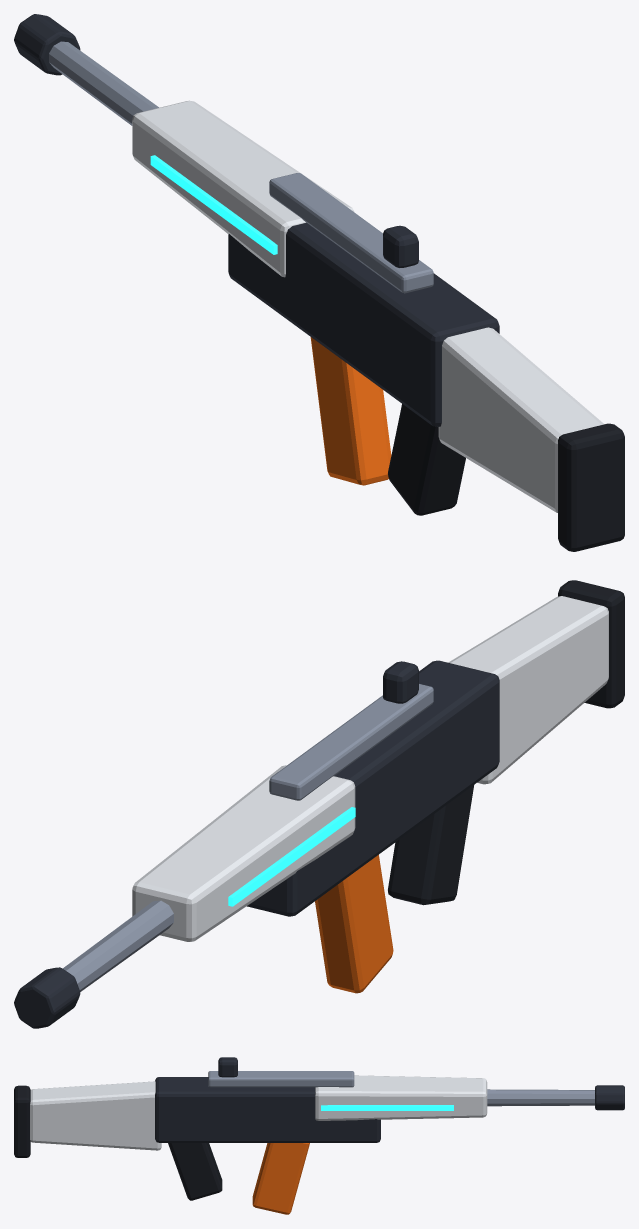
3 views of the same model, one above another, from view 1: azimuth 30°, elevation 25°; view 2: azimuth 150°, elevation 25°; view 3: azimuth 270°, elevation 25° (orthographic). The views are drawn at different scales.
Visible parts, largest first — view 1: receiver, stock, shroud, stockPad, mag, topRail, grip, barrel, brake, stripR, sight; view 2: receiver, shroud, stock, mag, grip, topRail, barrel, stockPad, brake, stripR, sight; view 3: receiver, stock, shroud, mag, topRail, grip, barrel, stockPad, stripL, brake, sight.
Boxes of the visible parts, bbox=[...] form: receiver: bbox=[228, 222, 499, 426]; stock: bbox=[438, 327, 603, 512]; shroud: bbox=[132, 100, 354, 277]; stockPad: bbox=[558, 423, 624, 551]; mag: bbox=[310, 337, 391, 485]; topRail: bbox=[269, 173, 433, 293]; grip: bbox=[388, 404, 465, 515]; barrel: bbox=[49, 41, 158, 125]; brake: bbox=[14, 14, 80, 75]; stripR: bbox=[150, 155, 277, 254]; sight: bbox=[383, 225, 418, 267]; receiver: bbox=[247, 660, 499, 916]; shroud: bbox=[132, 765, 355, 941]; stock: bbox=[448, 596, 608, 784]; mag: bbox=[315, 854, 393, 993]; grip: bbox=[388, 785, 473, 905]; topRail: bbox=[269, 684, 433, 800]; barrel: bbox=[63, 900, 173, 991]; stockPad: bbox=[558, 580, 624, 708]; brake: bbox=[14, 967, 80, 1028]; stripR: bbox=[228, 807, 355, 906]; sight: bbox=[383, 661, 418, 703]; receiver: bbox=[155, 1077, 380, 1142]; stock: bbox=[30, 1081, 161, 1150]; shroud: bbox=[315, 1075, 487, 1120]; mag: bbox=[252, 1143, 309, 1214]; topRail: bbox=[208, 1071, 354, 1087]; grip: bbox=[168, 1143, 222, 1200]; barrel: bbox=[487, 1089, 594, 1106]; stockPad: bbox=[14, 1085, 30, 1157]; stripL: bbox=[321, 1105, 453, 1110]; brake: bbox=[595, 1085, 624, 1110]; sight: bbox=[218, 1057, 237, 1077].
Bounding box in the file's own units: 0.077 × 0.2539 × 0.92.
